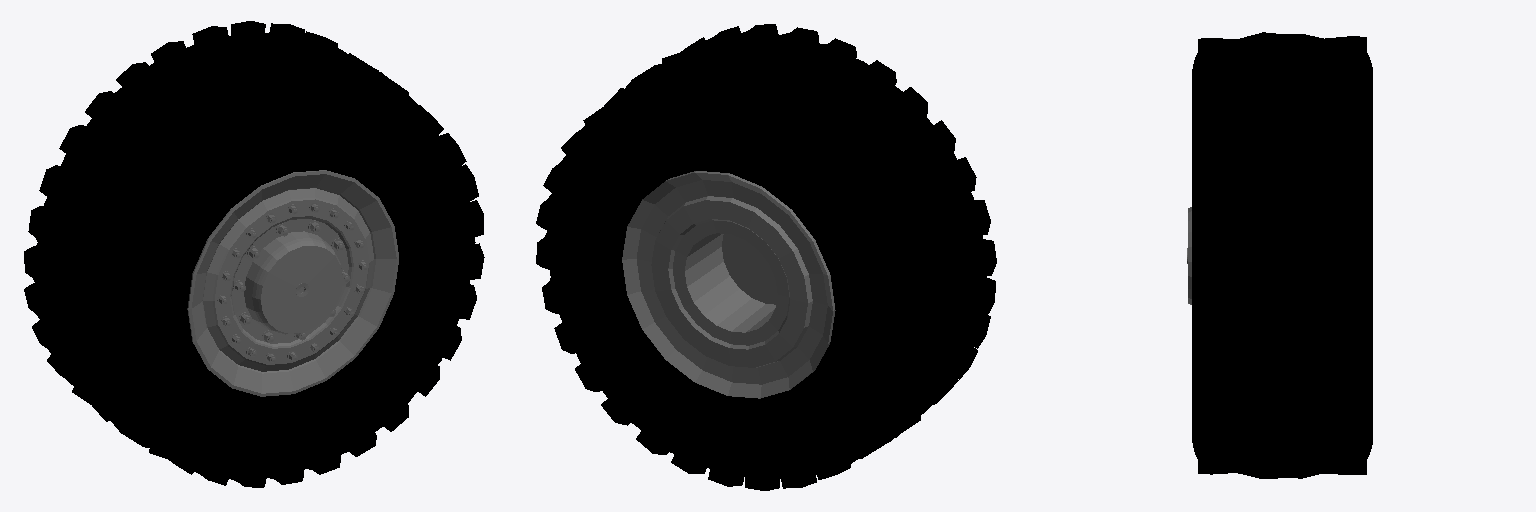
Rendered from mraptirepass3.obj.
3 views of the same model, side by side, from view 1: azimuth 30°, elevation 25°; view 2: azimuth 150°, elevation 25°; view 3: azimuth 270°, elevation 25° (orthographic).
Parts seen in each view (by area): view 1: pasted__svgMesh13, pCylinder39 pCylinder5, pCylinder37, pCylinder38; view 2: pasted__svgMesh13, pCylinder40; view 3: pasted__svgMesh13.
Boxes of the visible parts, <box> form: pasted__svgMesh13: <box>24,21,484,487</box>; pCylinder39 pCylinder5: <box>187,170,398,396</box>; pCylinder37: <box>217,203,367,362</box>; pCylinder38: <box>233,220,349,343</box>; pasted__svgMesh13: <box>536,24,996,490</box>; pCylinder40: <box>622,171,835,398</box>; pasted__svgMesh13: <box>1192,32,1372,478</box>.
Size of the model in its own units: 3.19 by 3.2 by 1.33.